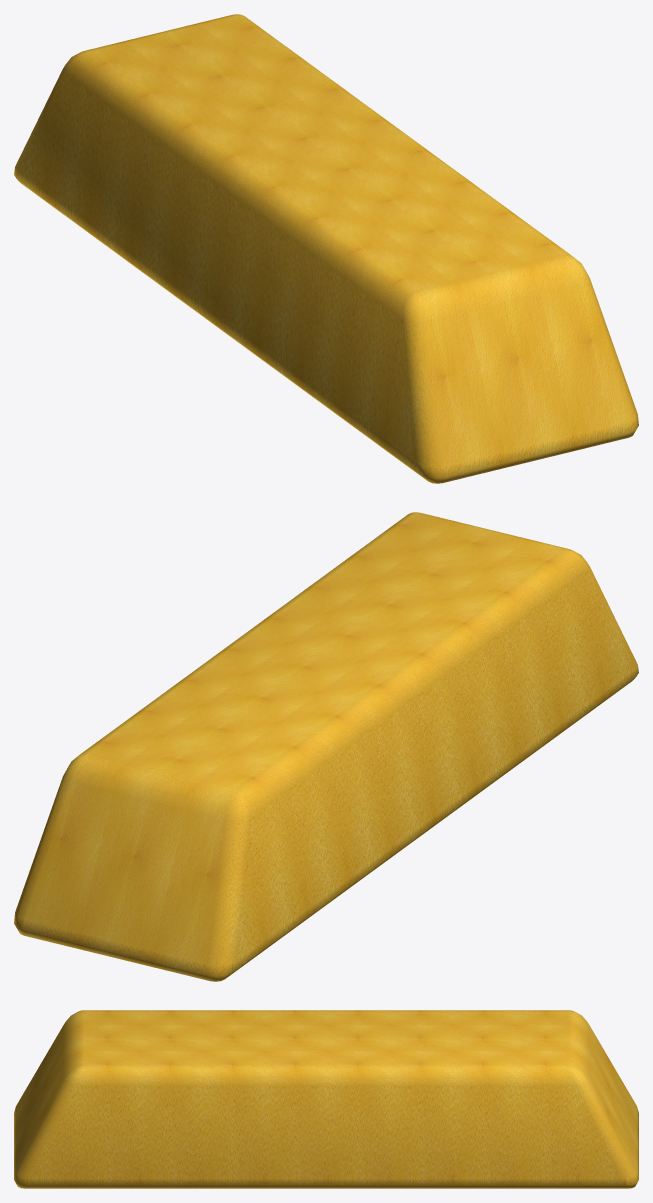
Rendered from Gold_Ingot.FBX.
The picture shows the model from 3 angles, top to bottom: view 1: azimuth 30°, elevation 25°; view 2: azimuth 150°, elevation 25°; view 3: azimuth 270°, elevation 25°; orthographic projection. The views are drawn at different scales.
Parts seen in each view (by area): view 1: Gold; view 2: Gold; view 3: Gold.
Part boxes in pixels (x1,y1,x2,y2): Gold: (14,14,638,483); Gold: (14,512,638,981); Gold: (14,1010,638,1188).
Size of the model in its own units: 5.85 by 4 by 19.62.
Materials: 1 (1 with a texture image).
